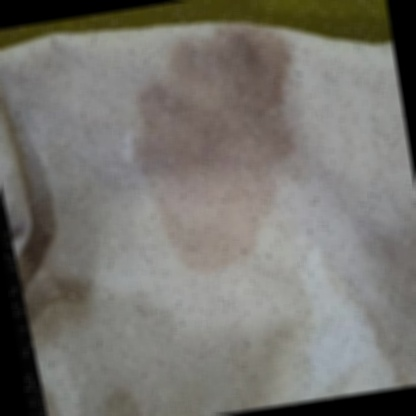coffee: (150, 60, 277, 216)
